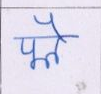au_matra: (40, 15, 65, 63)
